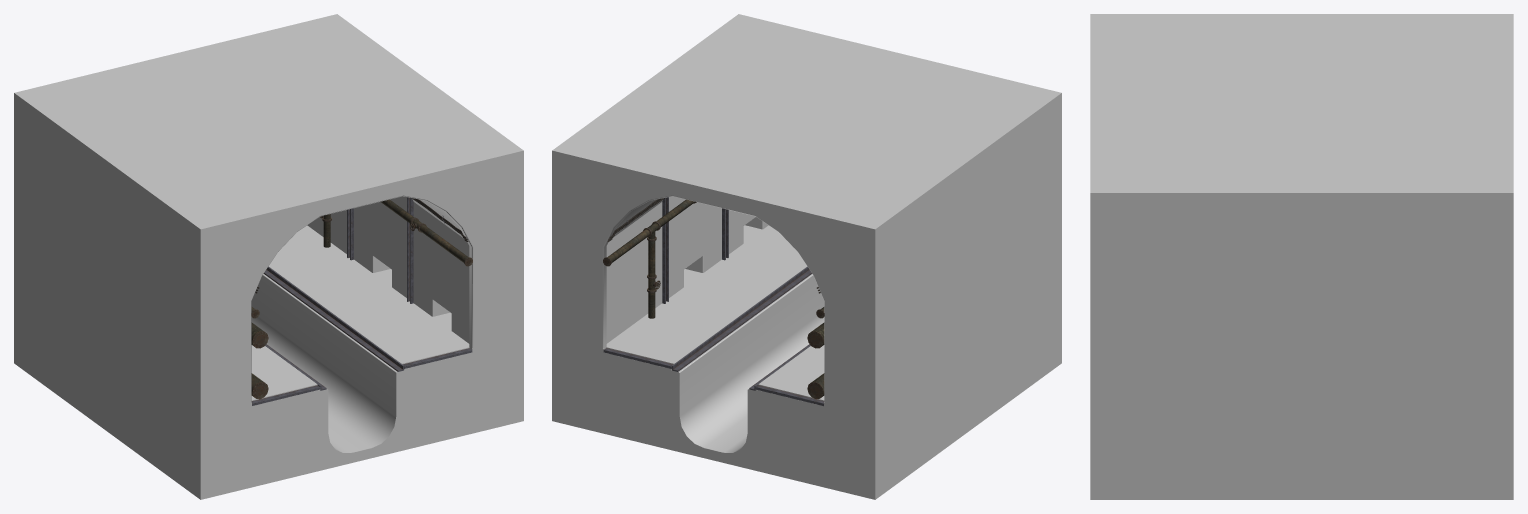
File: SM_Sewer_Tunnel_A.fbx
3 views of the same model, side by side, from view 1: azimuth 30°, elevation 25°; view 2: azimuth 150°, elevation 25°; view 3: azimuth 270°, elevation 25° (orthographic). The views are drawn at different scales.
Parts seen in each view (by area): view 1: Ceiling, Base, Wall_Left, Wall_Right, Bulks_floor, Halo_Front, Pipes_Small_Right, Bulks_Wall, Pipes_Big; view 2: Ceiling, Base, Wall_Left, Wall_Right, Bulks_floor, Halo_Back, Pipes_Small_Right, Bulks_Wall, Pipes_Big; view 3: Ceiling, Wall_Right, Base.
Part boxes in pixels (<box>): Ceiling: <box>14,14,523,313</box>; Base: <box>14,225,523,499</box>; Wall_Left: <box>14,177,249,415</box>; Wall_Right: <box>307,196,523,347</box>; Bulks_floor: <box>251,266,472,405</box>; Halo_Front: <box>248,193,475,404</box>; Pipes_Small_Right: <box>320,199,472,266</box>; Bulks_Wall: <box>347,197,413,303</box>; Pipes_Big: <box>251,322,268,399</box>; Ceiling: <box>552,14,1061,313</box>; Base: <box>552,225,1061,499</box>; Wall_Left: <box>826,177,1061,415</box>; Wall_Right: <box>552,196,768,348</box>; Bulks_floor: <box>603,266,824,406</box>; Halo_Back: <box>600,193,827,404</box>; Pipes_Small_Right: <box>603,199,696,318</box>; Bulks_Wall: <box>662,197,728,303</box>; Pipes_Big: <box>807,322,824,399</box>; Ceiling: <box>1090,14,1513,288</box>; Wall_Right: <box>1090,289,1513,403</box>; Base: <box>1090,404,1513,499</box>.
Bounding box in the file's own units: 1000 × 800 × 1000.
